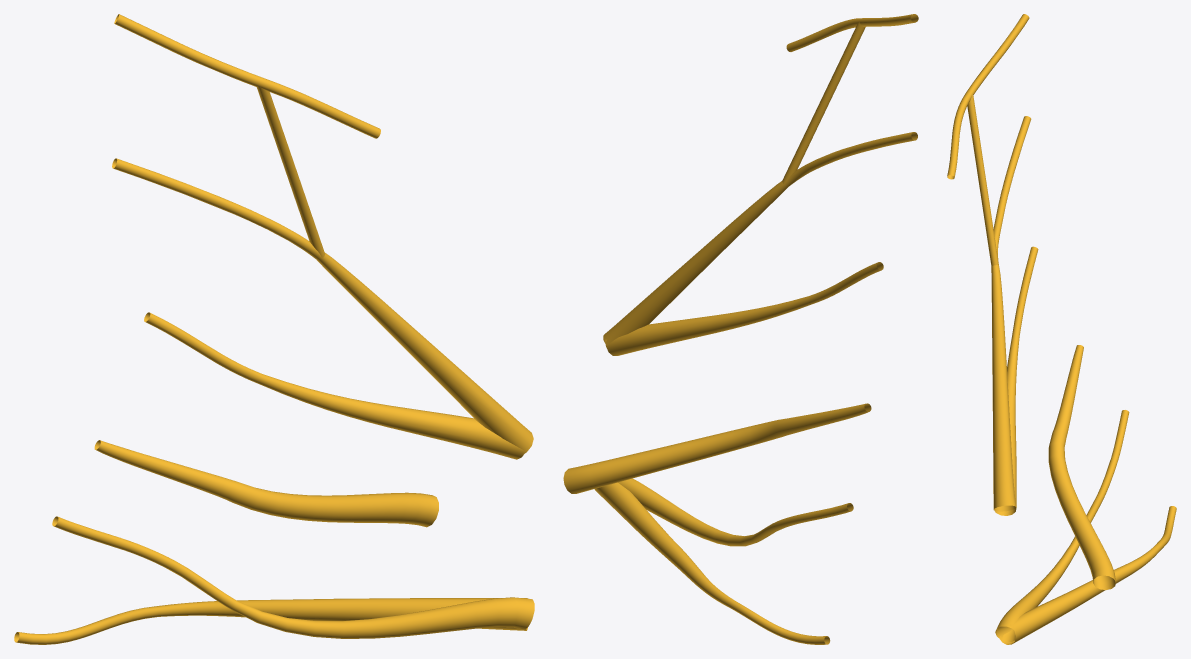
File: nervoso-roots-of-brachial-plexus-l.glb
The picture shows the model from 3 angles, left to right: view 1: azimuth 30°, elevation 25°; view 2: azimuth 150°, elevation 25°; view 3: azimuth 270°, elevation 25°; orthographic projection. The views are drawn at different scales.
Visible parts, largest first — view 1: Roots of brachial plexus.l; view 2: Roots of brachial plexus.l; view 3: Roots of brachial plexus.l.
Part boxes in pixels (box(x1,y1,x2,y2)): Roots of brachial plexus.l: box(14, 14, 534, 644); Roots of brachial plexus.l: box(563, 14, 918, 644); Roots of brachial plexus.l: box(947, 14, 1176, 644).
Size of the model in its own units: 0.0429 by 0.0717 by 0.0296.
